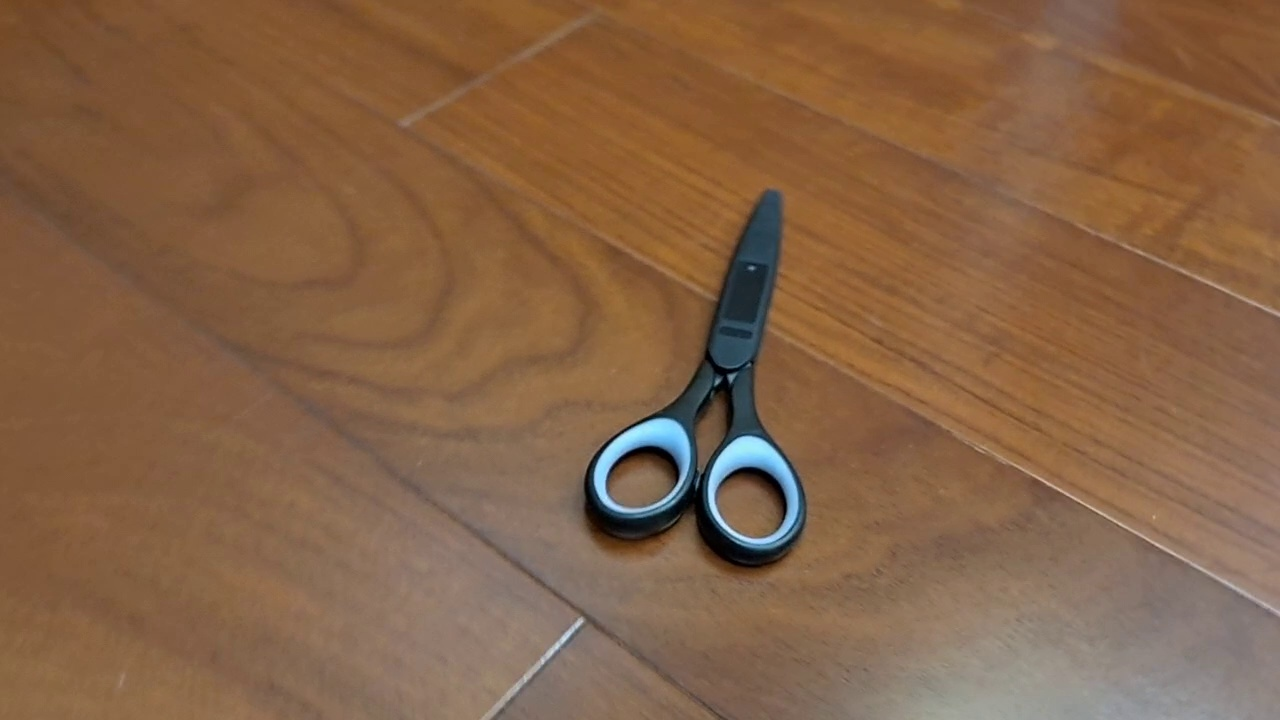scissors: (582, 186, 808, 569)
